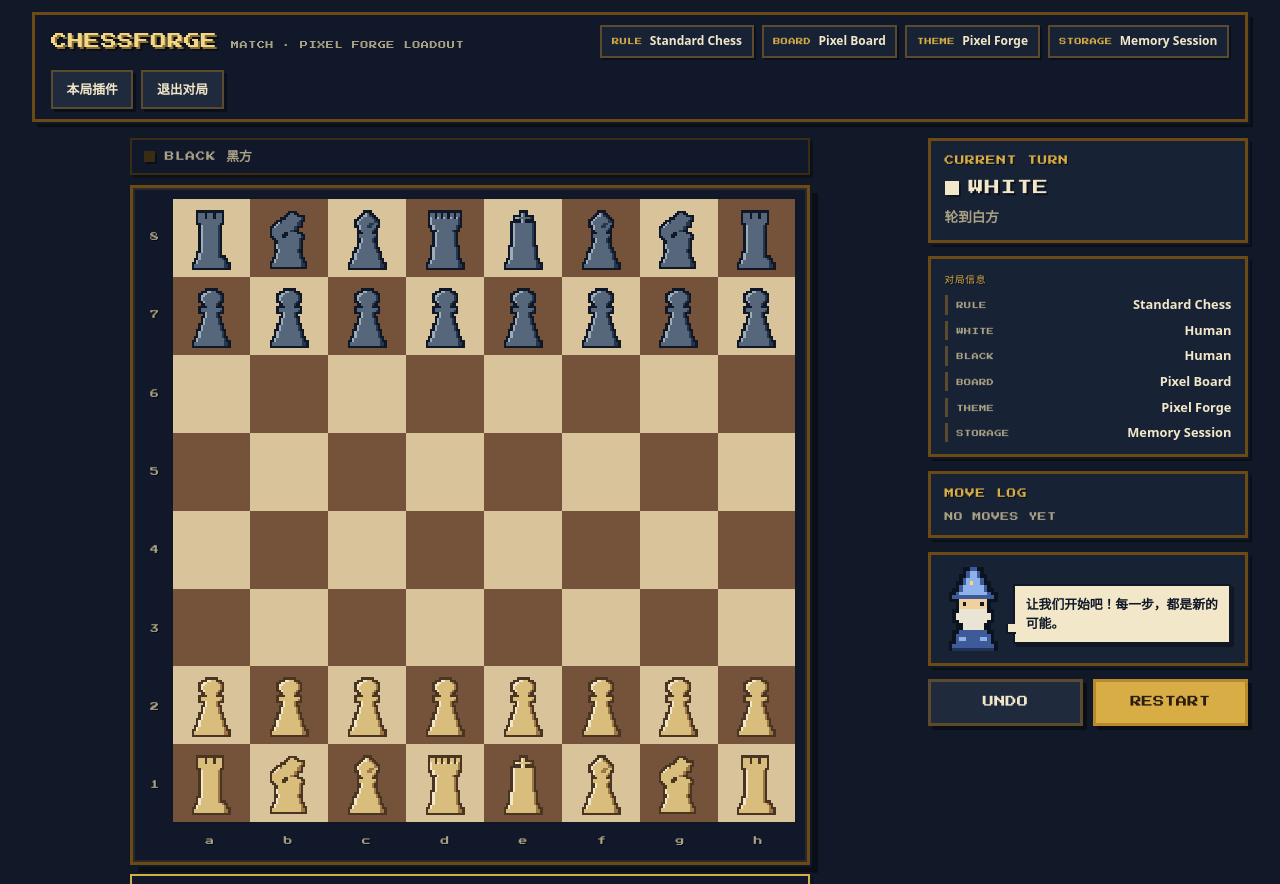
Test: continuing the match closes the exit confirmation
Click the element with test id "square-e2".
click(523, 705)  # box [484, 666, 562, 744]
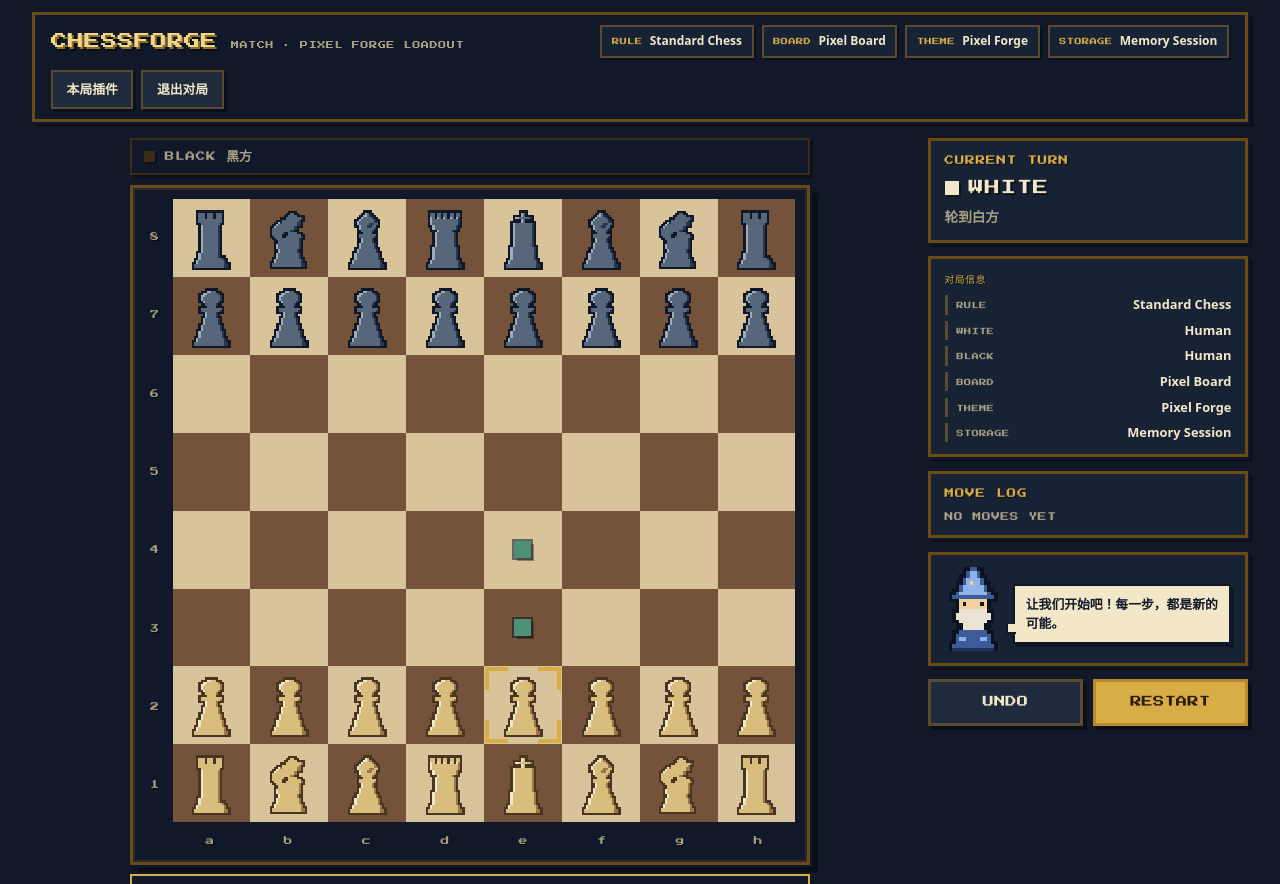
Click the element with test id "square-e4".
click(523, 550)  # box [484, 511, 562, 588]
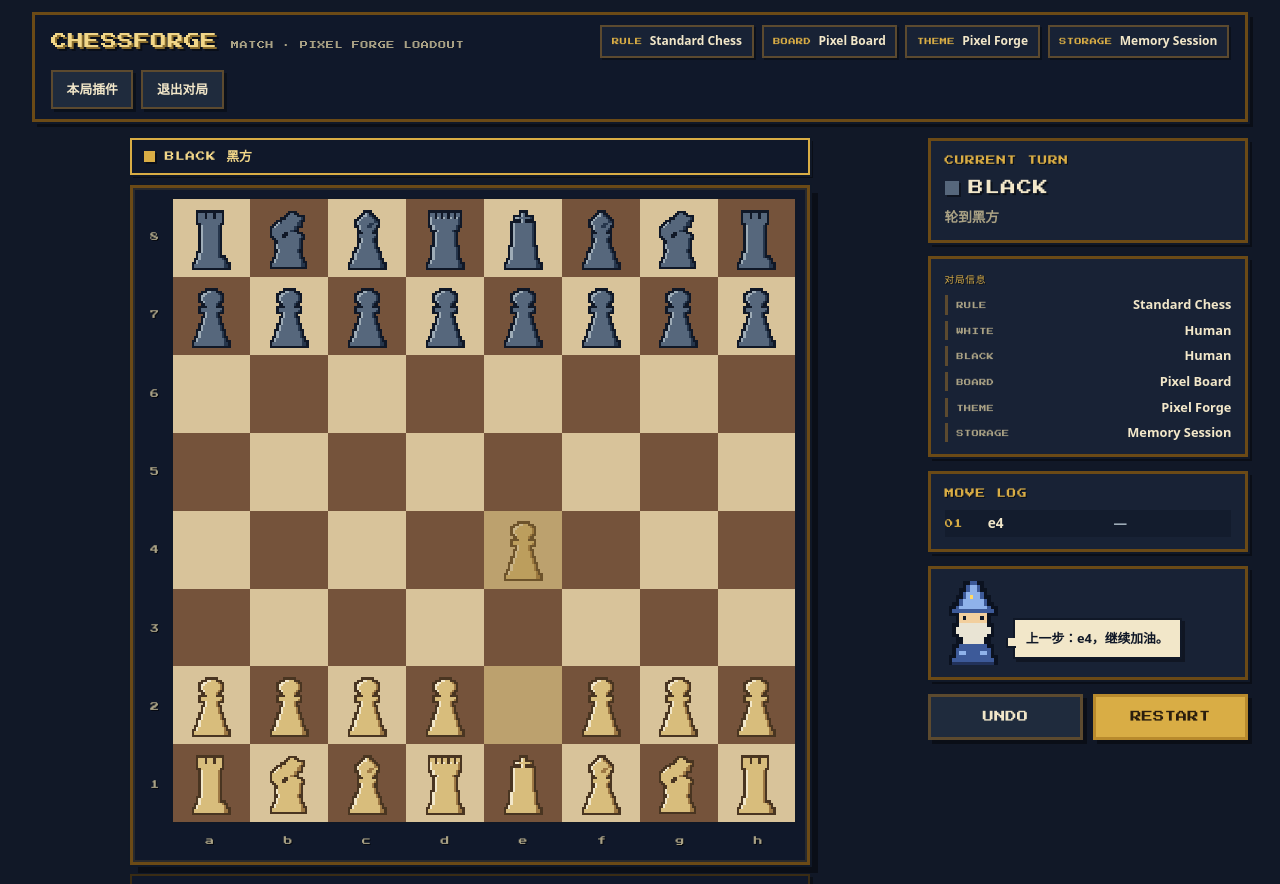
Click the button "退出对局".
click(183, 89)  # box [141, 70, 224, 109]
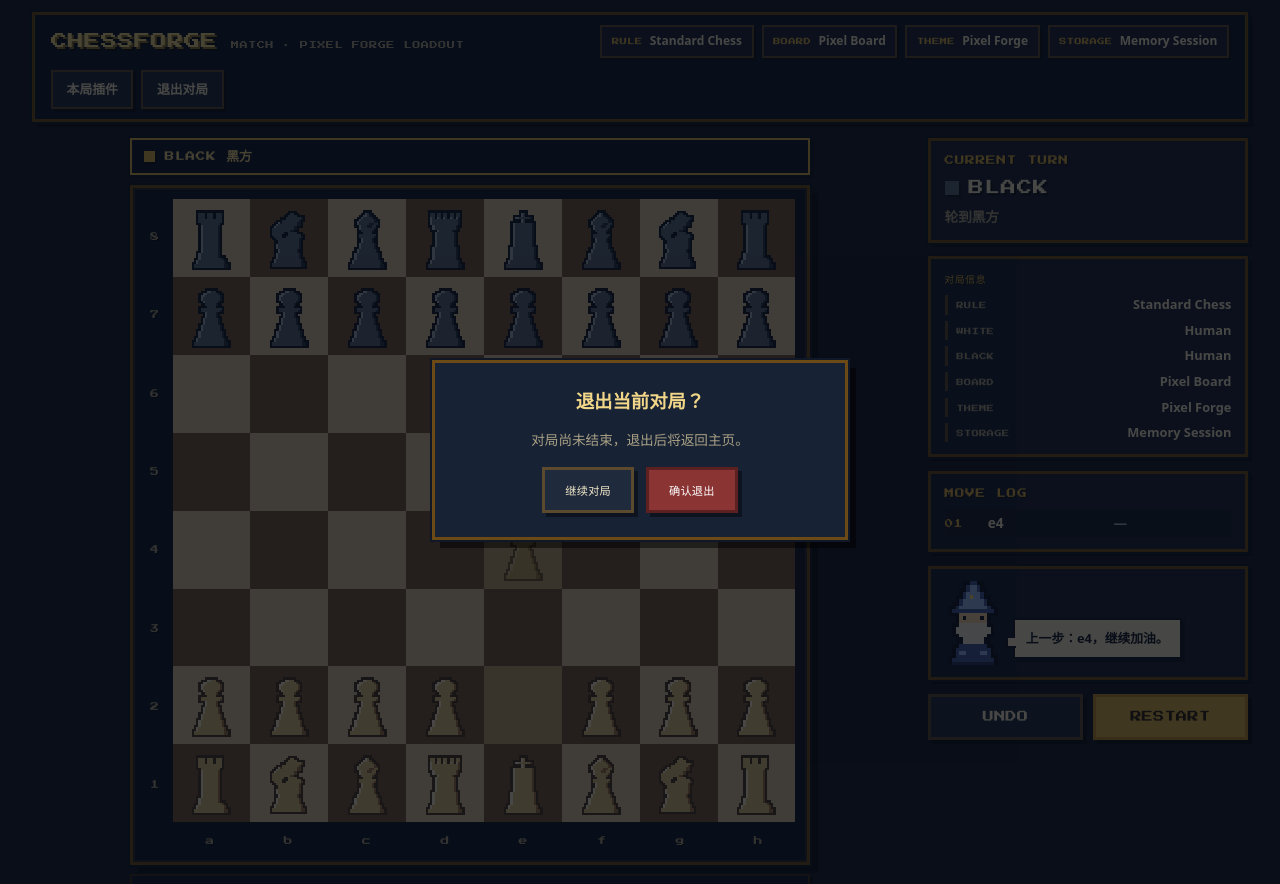
Click the button "继续对局".
click(588, 490)  # box [542, 467, 634, 513]
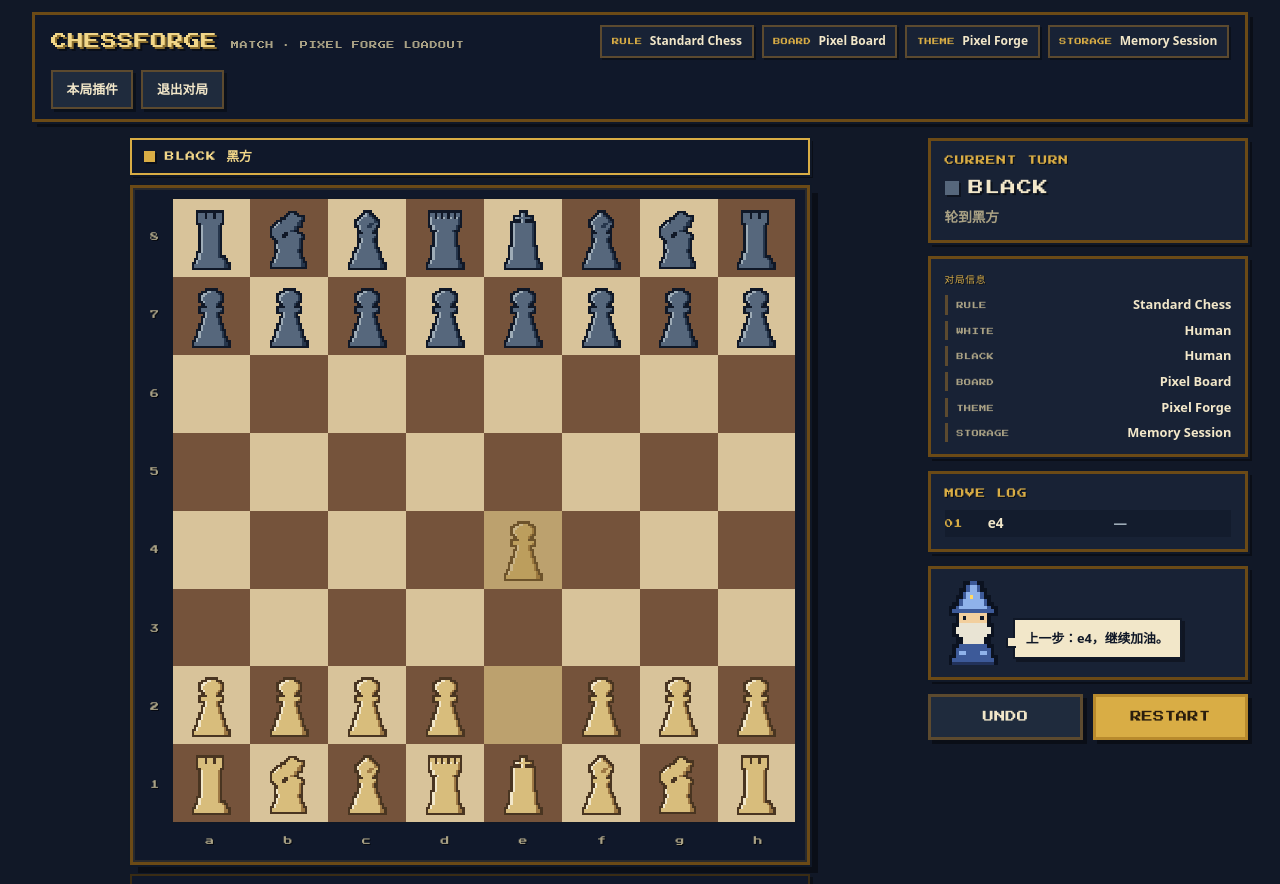
Check: the dialog is gone
